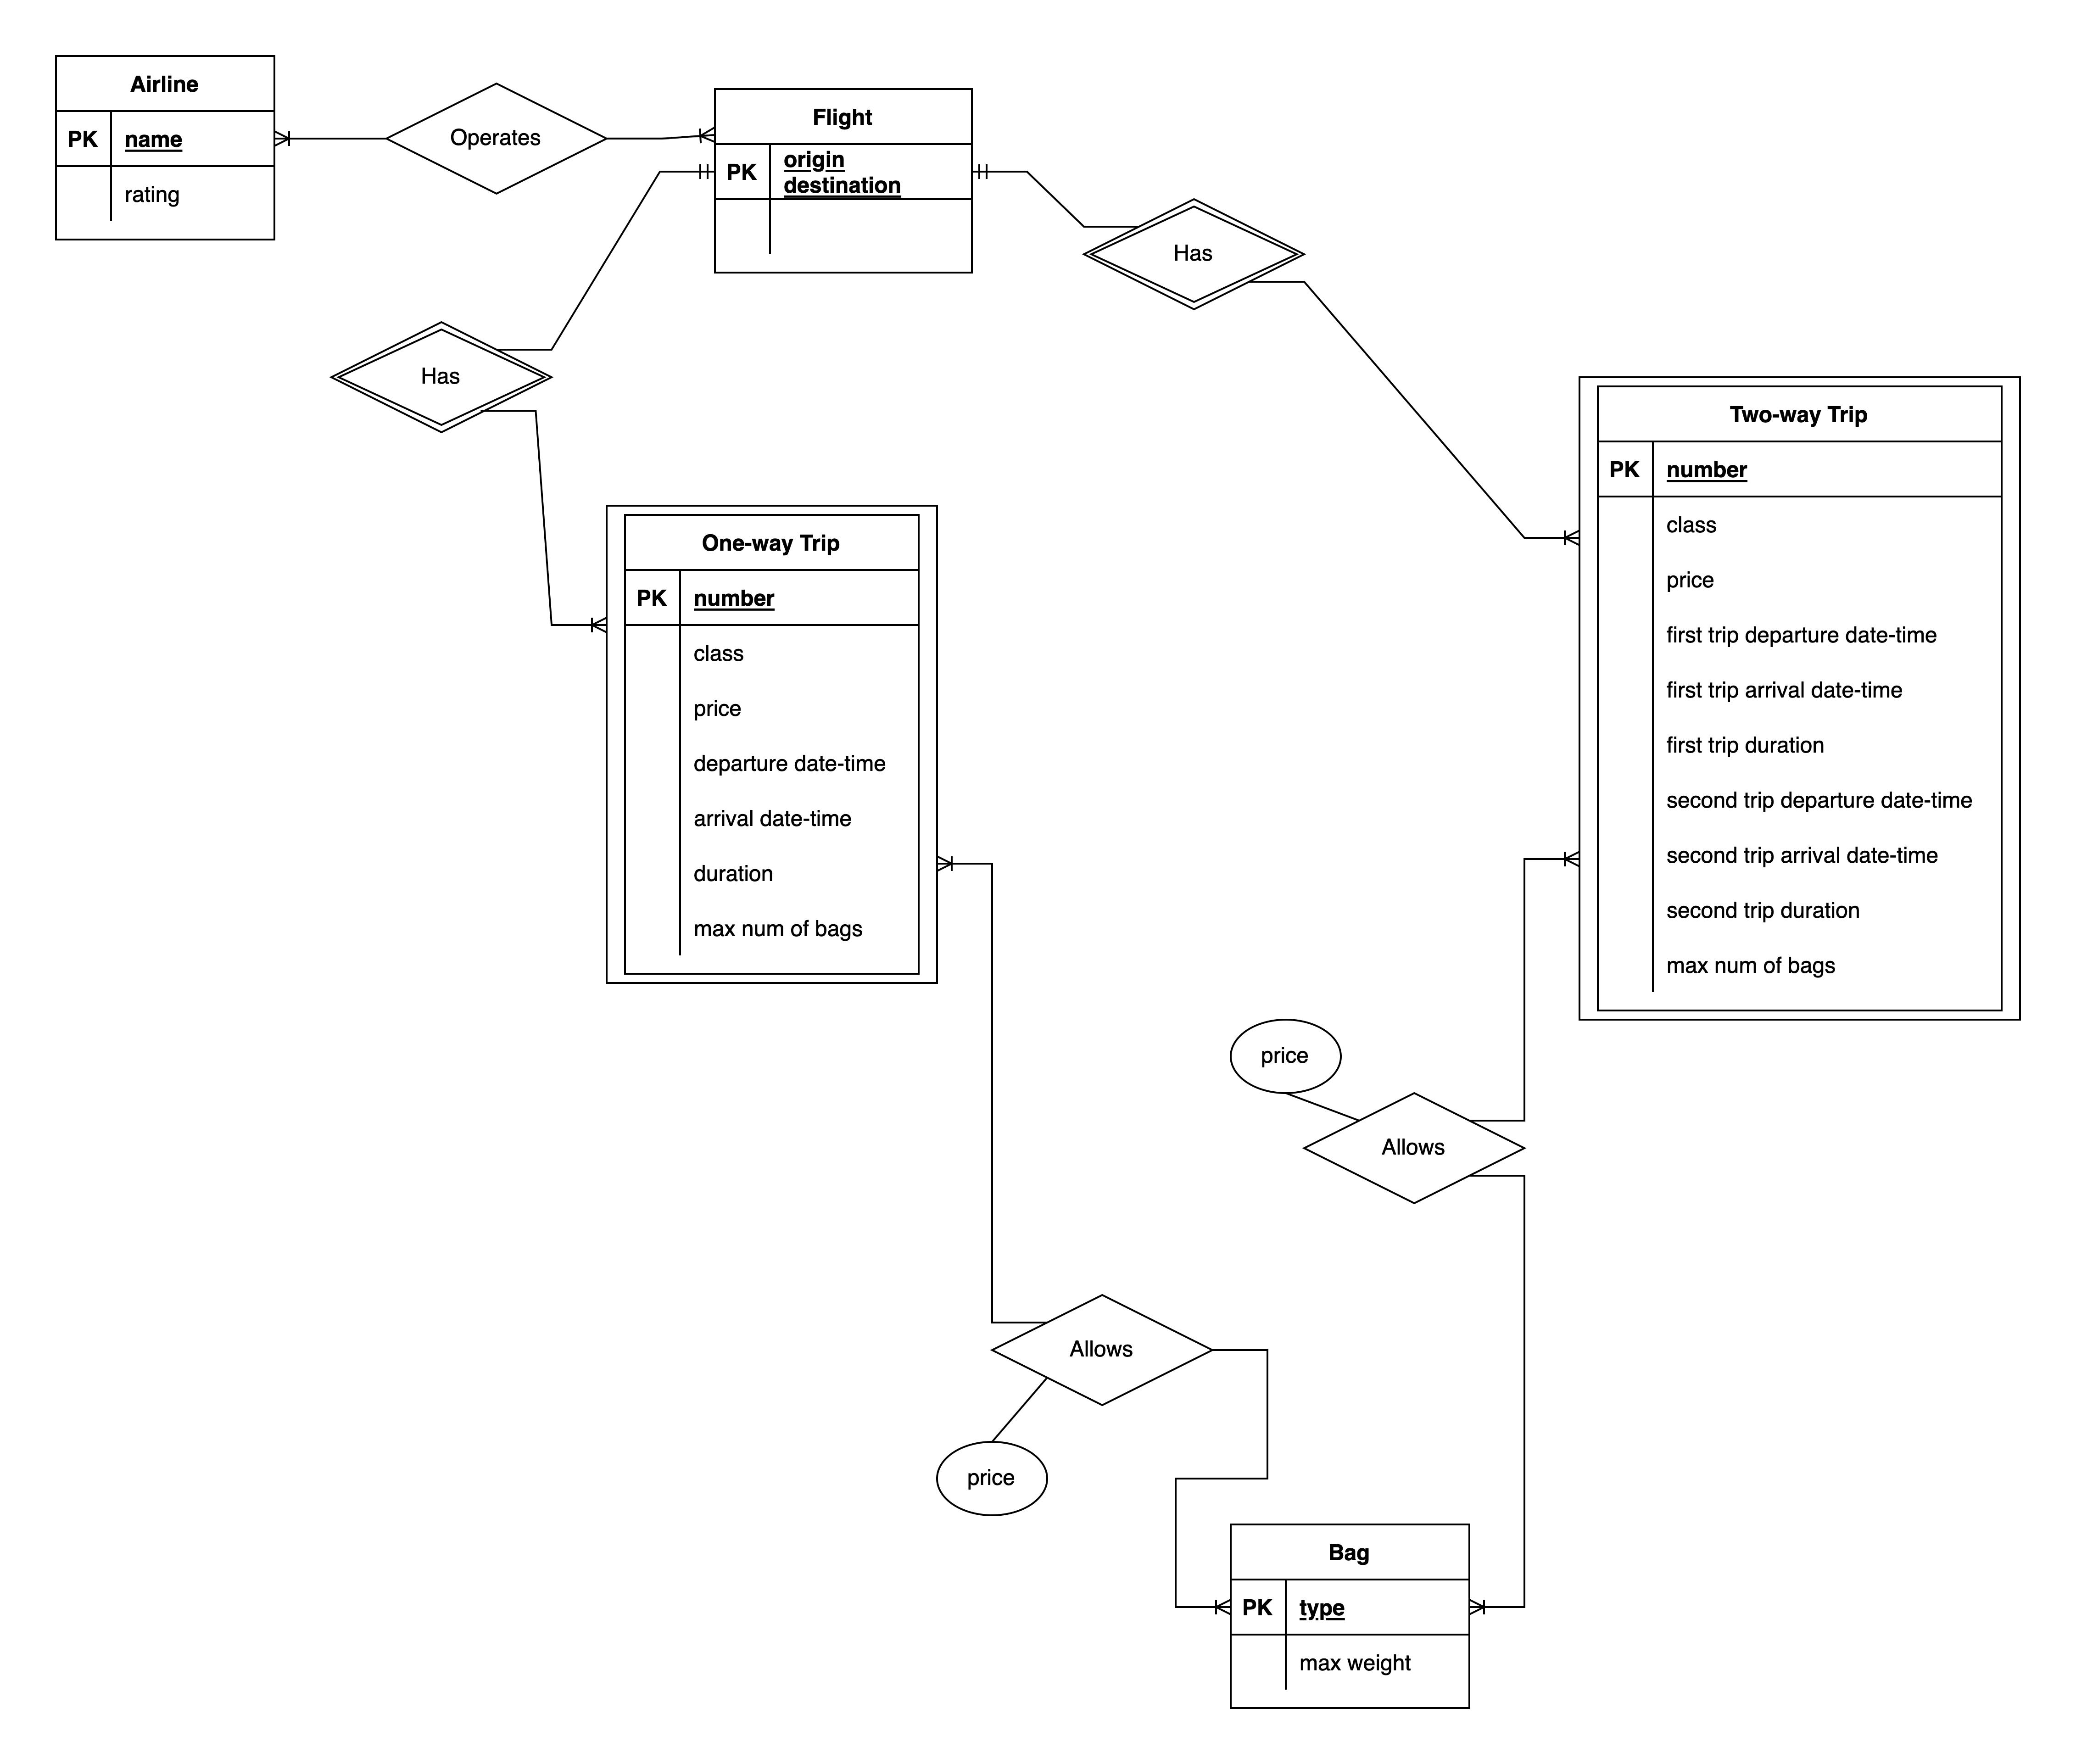attribute: (1224, 1024, 1341, 1097), (933, 1445, 1052, 1514)
entity: (709, 84, 973, 280), (1220, 1521, 1476, 1715), (49, 52, 282, 245)
relationship: (1297, 1092, 1526, 1204), (385, 87, 606, 198), (989, 1298, 1210, 1407)
weakentity: (1574, 371, 2030, 1029), (597, 499, 943, 994)
weakrelationship: (1078, 198, 1302, 308), (333, 324, 550, 434)
